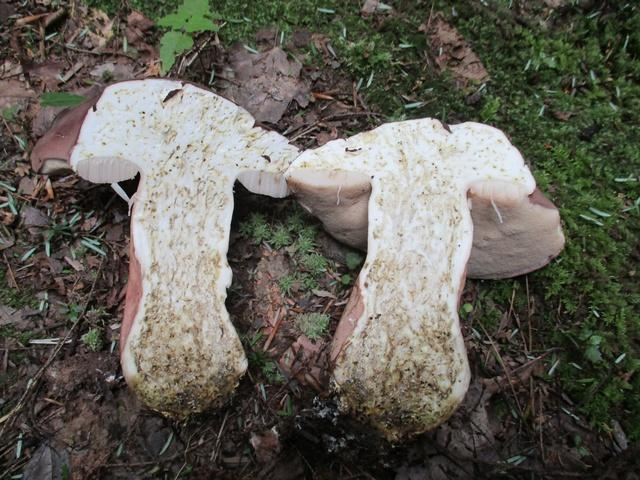Non-edible Mushroom: (282, 115, 565, 444), (32, 76, 300, 419)
